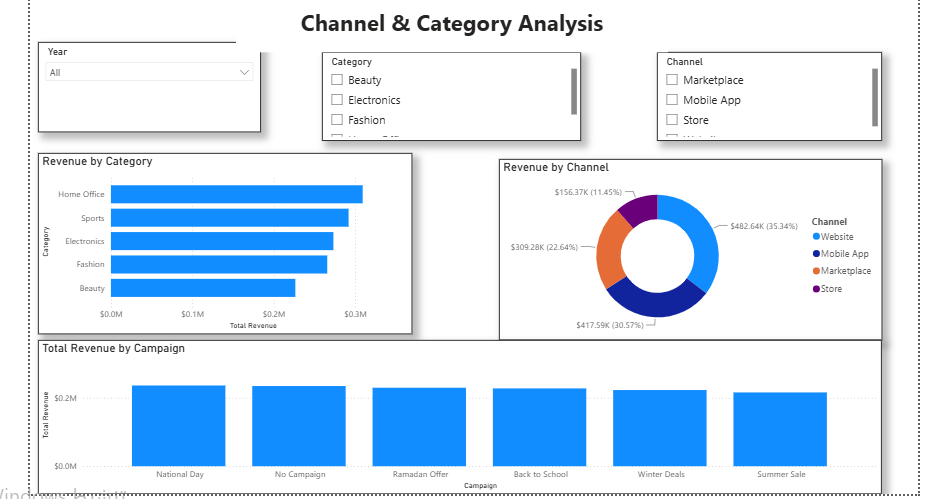

This screenshot's page, from the dashboard's own definition file:
{"tool":"powerbi","page":{"name":"Channel & Category Analysis","canvas":[1280,720],"ordinal":2},"visuals":[{"type":"clusteredBarChart","title":"Revenue by Category","fields":{"Category":["Products.Category"],"Y":["Measures Table.Total Revenue"]},"box":[11.5,229,538.6,260.6],"z":1},{"type":"slicer","fields":{"Values":["Calendar.Year"]},"box":[11.5,69.1,321.1,129.6],"z":2},{"type":"donutChart","title":"Revenue by Channel","fields":{"Category":["Sales.Channel"],"Y":["Measures Table.Total Revenue"]},"box":[675.4,237.6,551.5,260.6],"z":3},{"type":"slicer","fields":{"Values":["Products.Category"]},"box":[420.5,83.5,373,128.2],"z":4},{"type":"slicer","fields":{"Values":["Sales.Channel"]},"box":[902.9,83.5,324,128.2],"z":5},{"type":"clusteredColumnChart","fields":{"Category":["Sales.Campaign"],"Y":["Measures Table.Total Revenue"]},"box":[11.5,498.2,1215.4,221.8],"z":6},{"type":"textbox","box":[296.6,13,622.1,70.6],"z":7}]}

Visuals, with their boxes in screenshot pixels (x1, y1, x2, y2):
"Revenue by Category" clusteredBarChart: bbox=(37, 154, 406, 333)
slicer - Calendar.Year: bbox=(37, 45, 257, 134)
"Revenue by Channel" donutChart: bbox=(492, 160, 870, 339)
slicer - Products.Category: bbox=(318, 55, 573, 143)
slicer - Sales.Channel: bbox=(648, 55, 870, 143)
clusteredColumnChart - Sales.Campaign x Measures Table.Total Revenue: bbox=(37, 339, 870, 491)
textbox: bbox=(233, 6, 659, 55)
